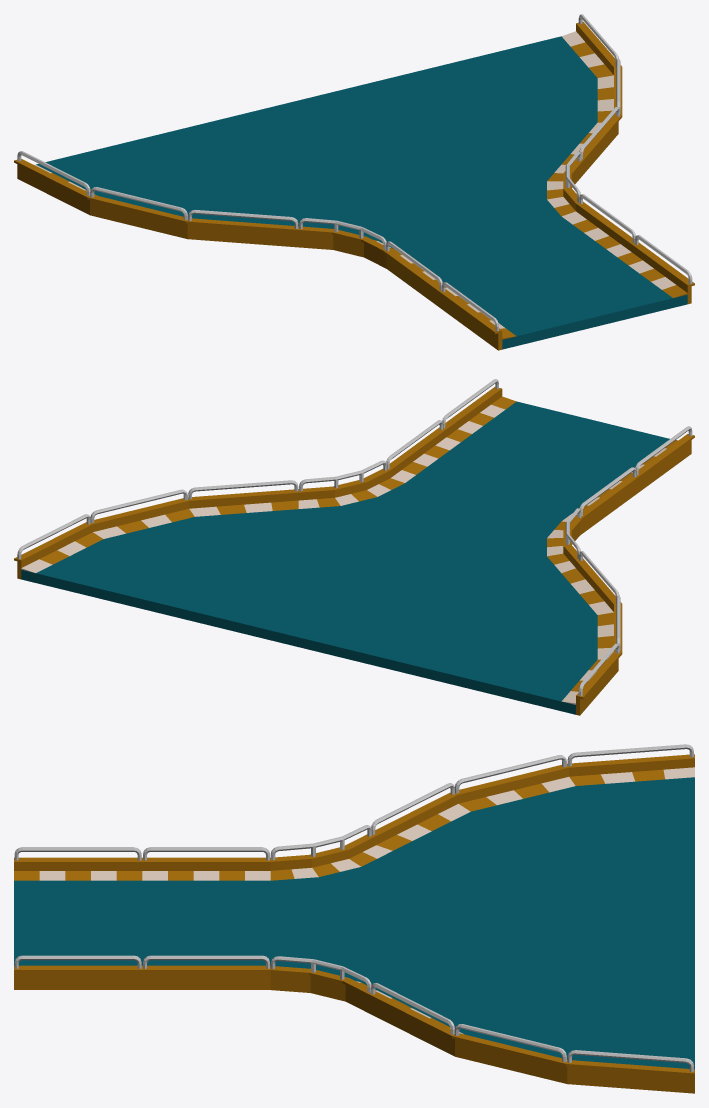
The model's file is split_2-1-noBarrier.FBX.
3 views of the same model, one above another, from view 1: azimuth 30°, elevation 25°; view 2: azimuth 150°, elevation 25°; view 3: azimuth 270°, elevation 25° (orthographic). The views are drawn at different scales.
Visible parts, largest first — view 1: split_2-1, wall_r, wall_l, curbs_l, curbs_r; view 2: split_2-1, wall_l, wall_r, curbs_l, curbs_r; view 3: split_2-1, wall_l, wall_r, curbs_r.
Part boxes in pixels (bbox=[...]): split_2-1: bbox=[36, 36, 687, 349]; wall_r: bbox=[14, 151, 502, 350]; wall_l: bbox=[563, 14, 694, 304]; curbs_l: bbox=[547, 31, 687, 297]; curbs_r: bbox=[34, 164, 516, 339]; split_2-1: bbox=[21, 401, 669, 714]; wall_l: bbox=[14, 379, 502, 579]; wall_r: bbox=[563, 426, 694, 715]; curbs_l: bbox=[21, 396, 516, 573]; curbs_r: bbox=[547, 440, 677, 704]; split_2-1: bbox=[14, 777, 694, 1069]; wall_l: bbox=[14, 955, 694, 1093]; wall_r: bbox=[14, 744, 694, 870]; curbs_r: bbox=[14, 767, 694, 880].
Size of what is drawn, in the model's own units: 589 by 531 by 29.31.
